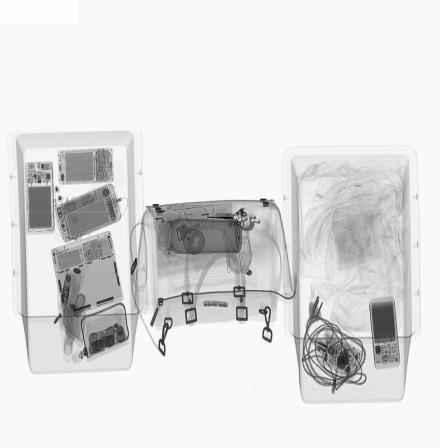Powerbank: (367, 296, 402, 370)
